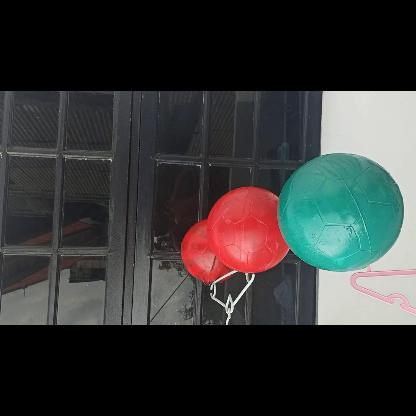green_ball: (280, 150, 404, 274)
